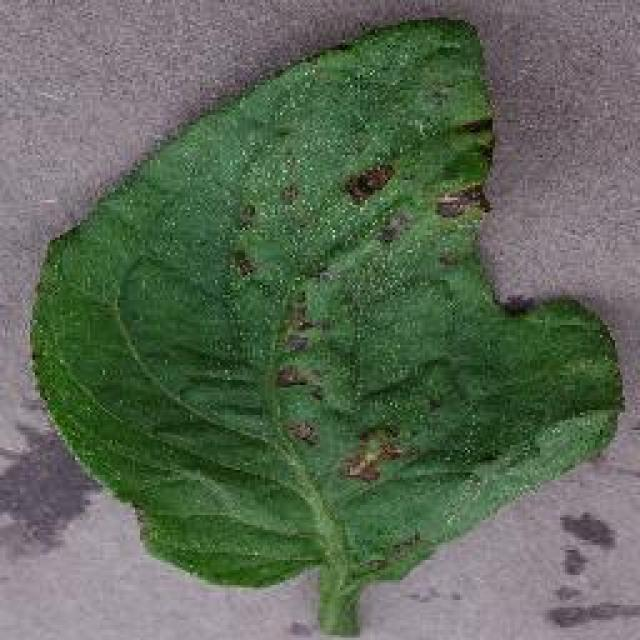Tomato bacterial spot leaf: (30, 14, 630, 588)
